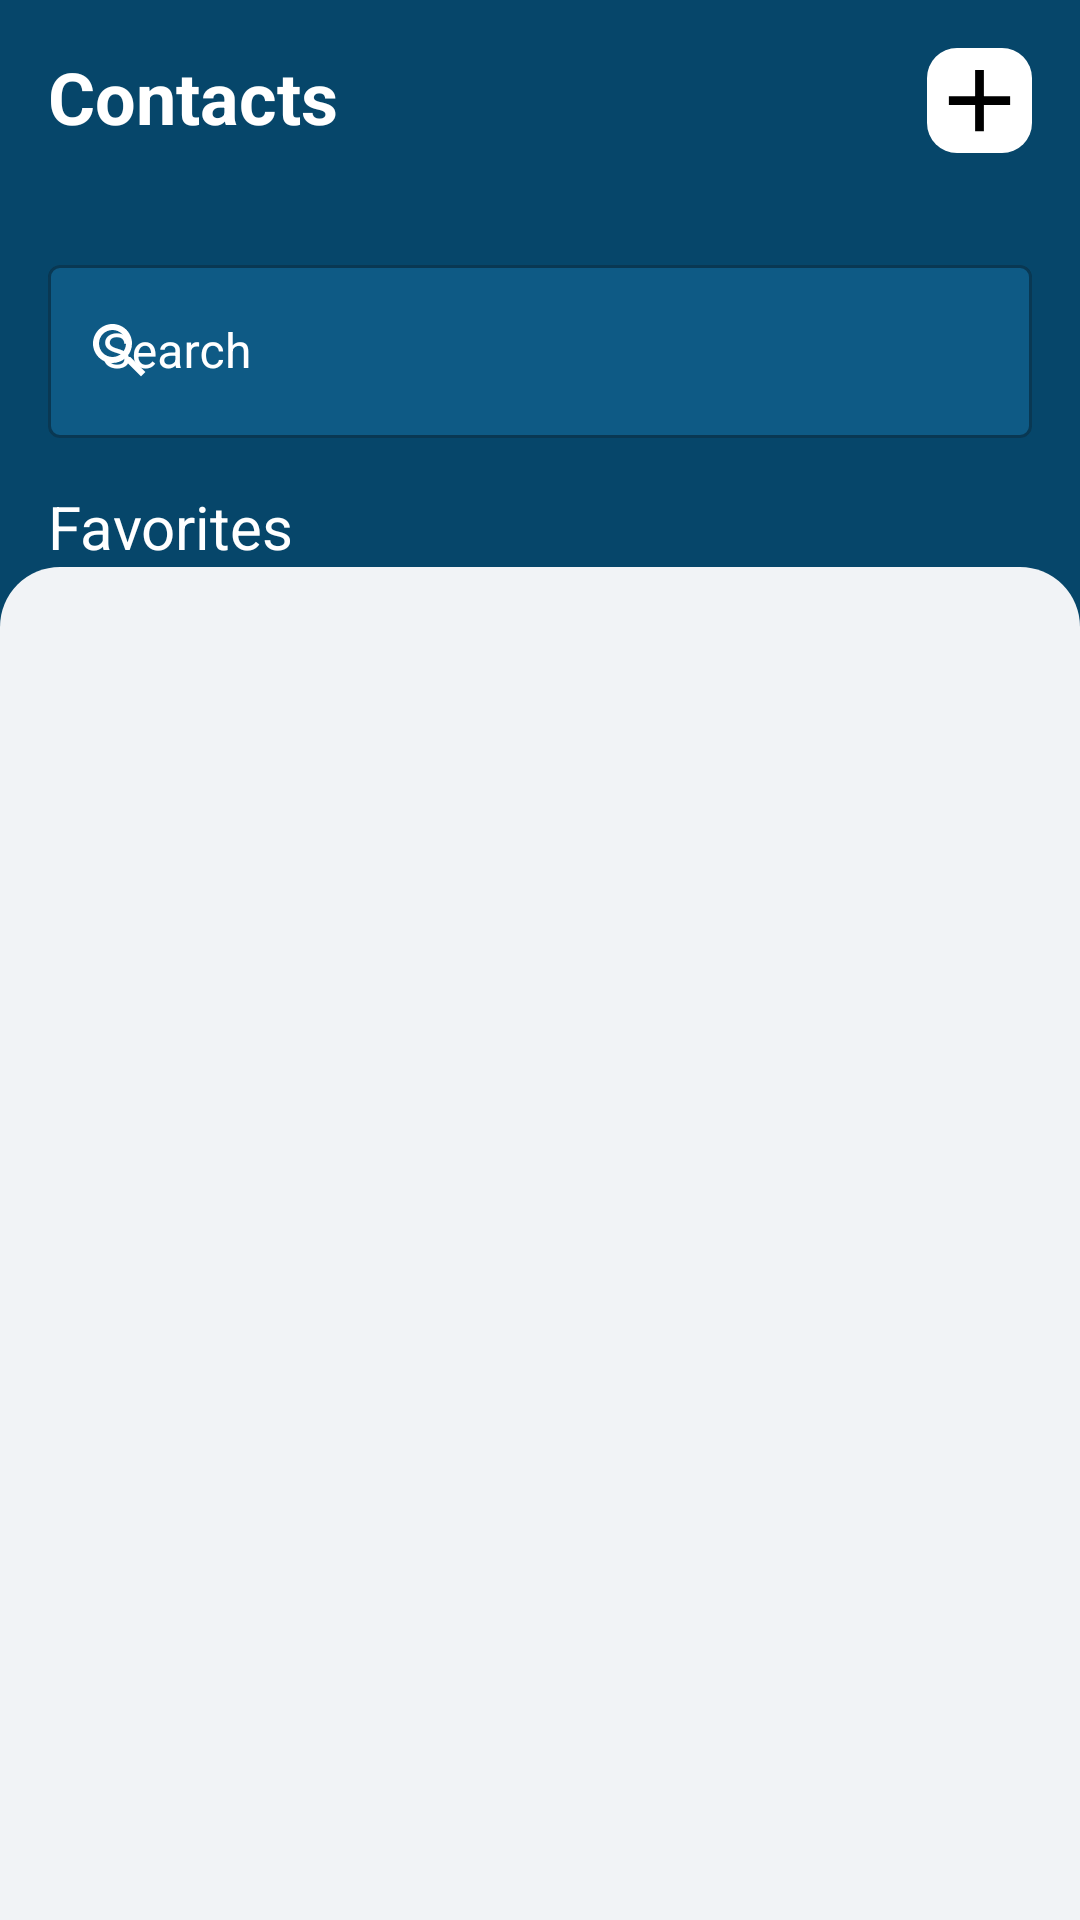

Locate icon controls on the screen. Image size 1080 x 1920, boxes as (x1, y1, x2, y2).
add: (927, 48, 1032, 153)
